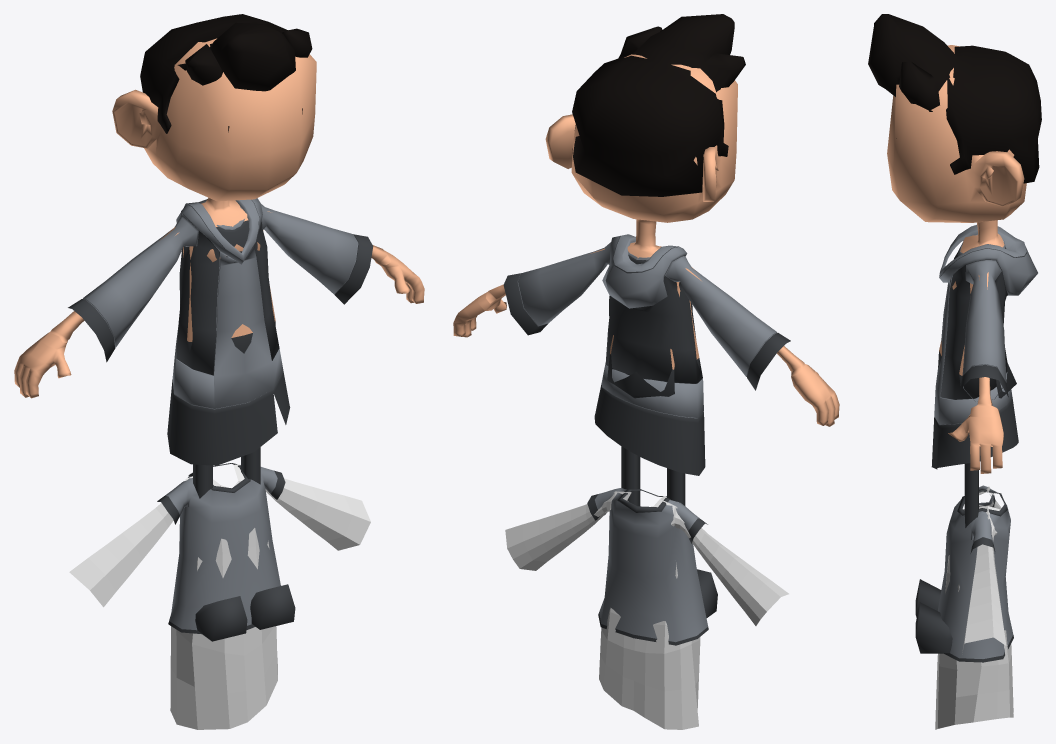
Rendered from bint_rig.gltf.
The picture shows the model from 3 angles, left to right: view 1: azimuth 30°, elevation 25°; view 2: azimuth 150°, elevation 25°; view 3: azimuth 270°, elevation 25°; orthographic projection. The views are drawn at different scales.
Visible parts, largest first — view 1: Plane.002, Plane, Plane.010, Plane.004, Plane.001; view 2: Plane.002, Plane.001, Plane.010, Plane, Plane.004; view 3: Plane, Plane.001, Plane.002, Plane.010, Plane.004.
Boxes of the visible parts, x1,y1,x2,y2 form: Plane.002: (68,198,373,465); Plane: (14,38,424,641); Plane.010: (69,464,370,729); Plane.004: (157,463,285,634); Plane.001: (140,14,312,133); Plane.002: (503,234,790,475); Plane.001: (572,14,745,196); Plane.010: (505,491,788,729); Plane: (453,54,839,617); Plane.004: (587,488,708,645); Plane: (887,45,1026,653); Plane.001: (868,14,1041,183); Plane.002: (931,225,1037,469); Plane.010: (935,486,1013,729); Plane.004: (938,485,1013,662).
Size of the model in its own units: 3.19 by 5.55 by 1.24.
